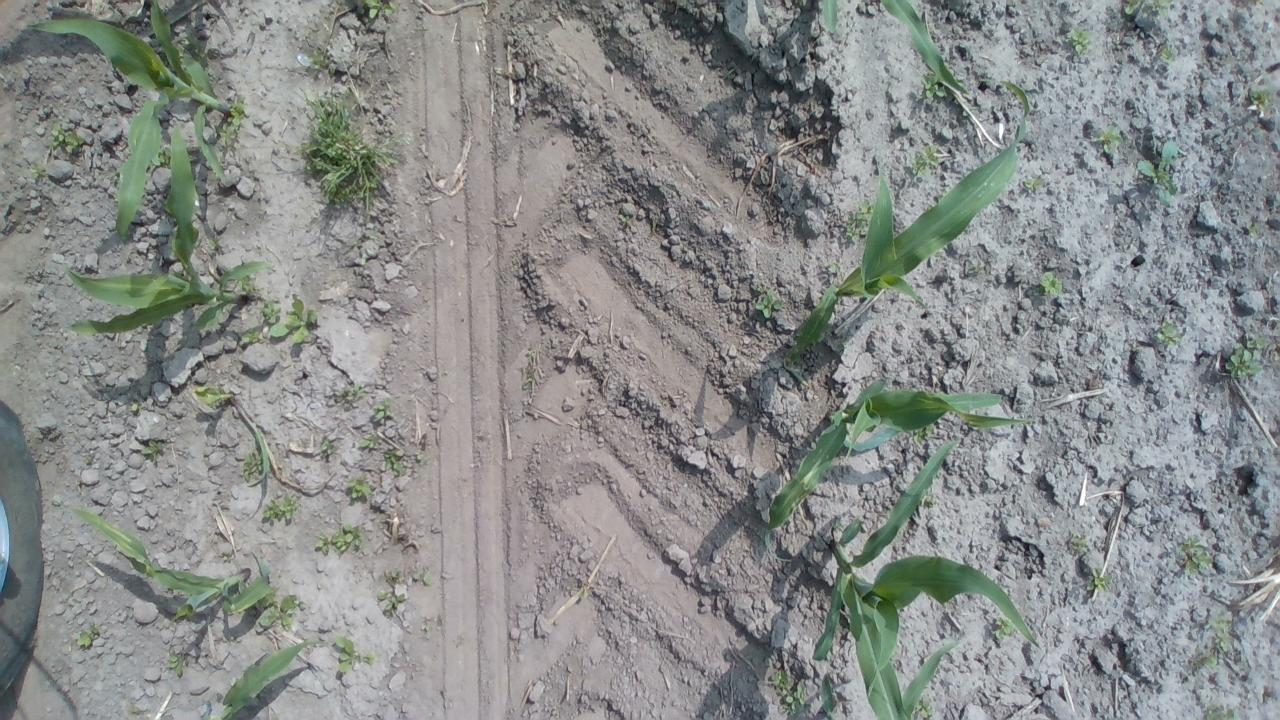Maize: (789, 78, 1030, 384), (816, 443, 1040, 720), (23, 0, 234, 241), (763, 377, 1031, 556), (64, 122, 276, 334), (72, 507, 270, 622), (810, 0, 970, 95), (822, 636, 960, 720), (198, 640, 328, 720)
Weeds: (298, 88, 404, 207), (1136, 138, 1180, 206), (270, 296, 318, 344), (259, 586, 306, 630), (1225, 334, 1267, 378), (212, 96, 246, 150), (770, 668, 806, 715), (335, 635, 375, 673), (176, 36, 210, 78), (1177, 536, 1213, 573), (49, 121, 86, 155), (846, 199, 874, 242), (922, 67, 956, 98), (1092, 124, 1124, 154), (910, 145, 940, 177), (754, 287, 784, 318), (332, 524, 364, 553), (1210, 616, 1234, 652), (262, 496, 298, 520), (1066, 24, 1094, 53), (307, 46, 337, 72), (347, 472, 373, 499), (1157, 320, 1183, 347), (1038, 270, 1064, 296), (1086, 568, 1114, 592), (362, 0, 398, 18), (384, 448, 406, 476), (242, 452, 262, 482), (260, 298, 282, 324), (148, 146, 172, 169), (238, 274, 264, 295), (1194, 646, 1218, 667), (1250, 87, 1274, 108), (993, 616, 1015, 638), (76, 626, 100, 646), (334, 383, 362, 400), (911, 425, 936, 444), (1147, 0, 1173, 18), (914, 695, 933, 719), (1206, 704, 1234, 720), (374, 397, 394, 419), (141, 440, 166, 457), (168, 651, 184, 676), (1068, 532, 1088, 552), (413, 565, 432, 586), (1023, 174, 1045, 192), (357, 433, 380, 450), (316, 532, 330, 556), (1245, 219, 1262, 238), (240, 328, 260, 344), (385, 594, 405, 610), (1160, 44, 1176, 62), (1122, 0, 1141, 14), (30, 163, 46, 179), (388, 567, 403, 584), (919, 494, 938, 507), (108, 166, 122, 182), (321, 438, 335, 454), (207, 237, 220, 250), (830, 260, 840, 273), (750, 283, 764, 292), (833, 521, 844, 531), (526, 348, 536, 359), (618, 214, 630, 223), (131, 402, 141, 412), (377, 590, 387, 600), (222, 552, 232, 561), (840, 339, 849, 348), (523, 380, 531, 390), (421, 624, 430, 632), (962, 109, 970, 118), (85, 456, 94, 463), (354, 241, 363, 246)
